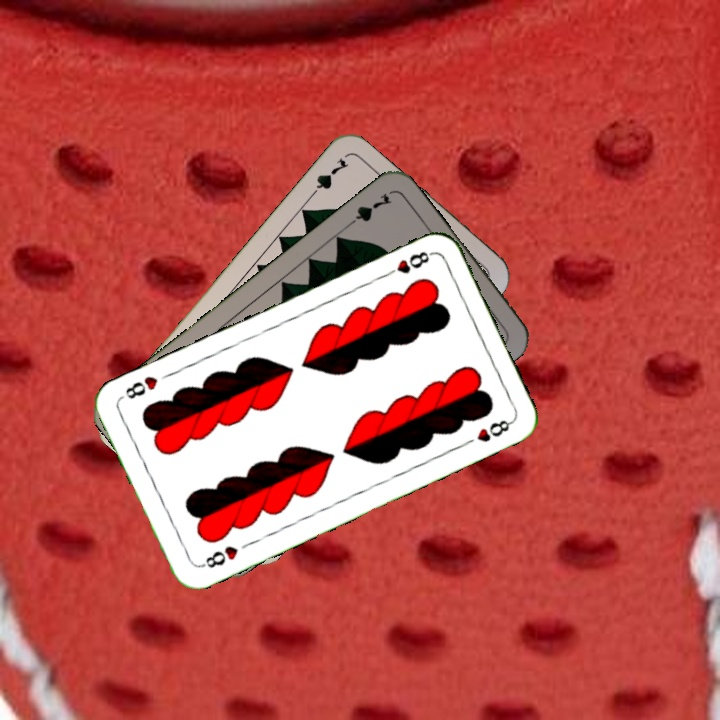G7: (304, 153, 352, 203), (341, 189, 395, 231)
H8: (380, 247, 436, 280), (195, 541, 241, 571)
